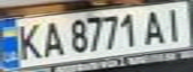1: (118, 10, 142, 48)
7: (100, 11, 121, 51), (84, 14, 106, 52)
8: (66, 16, 87, 54)
A: (36, 18, 66, 58), (139, 7, 169, 45)
I: (157, 4, 190, 43)
K: (9, 19, 45, 61)
